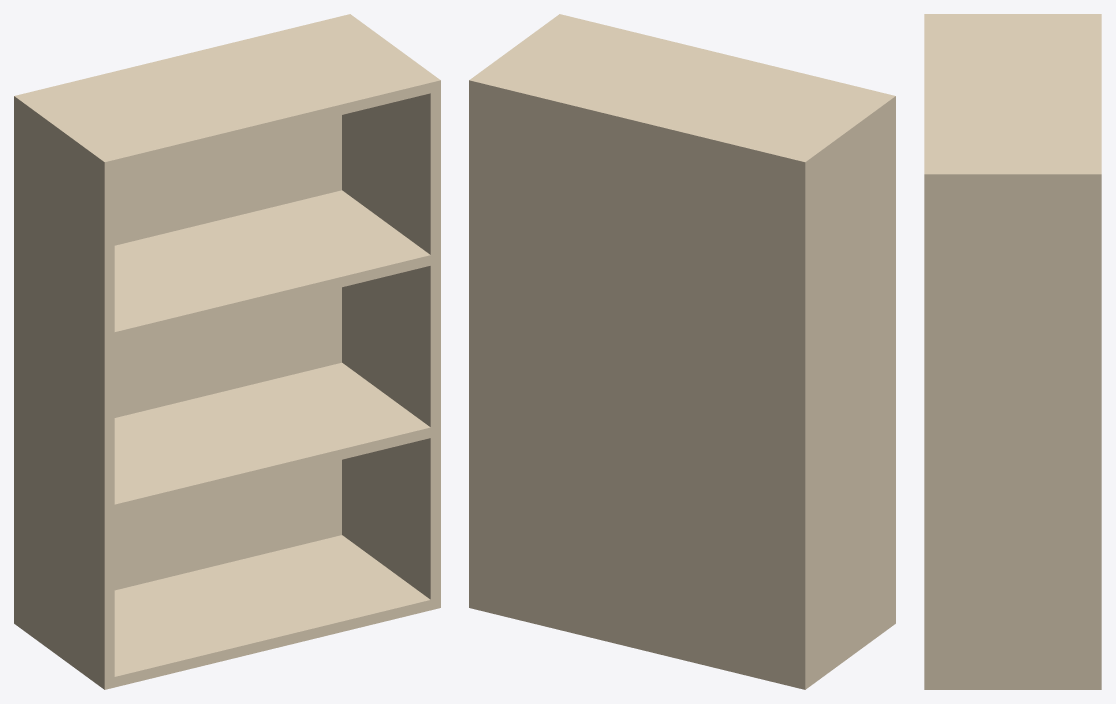
Rendered from natural.glb.
3 renders of one model, left to right at view 1: azimuth 30°, elevation 25°; view 2: azimuth 150°, elevation 25°; view 3: azimuth 270°, elevation 25°, orthographic. The views are drawn at different scales.
Parts seen in each view (by area): view 1: back.1, side.1, side.2, top_bottom.2, top_bottom.1, shelf.1, shelf.2; view 2: back.1, side.1, top_bottom.2, side.2; view 3: side.2, top_bottom.2, back.1, side.1.
Boxes of the visible parts, bbox=[...] form: back.1: bbox=[14, 14, 351, 624]; side.1: bbox=[16, 95, 114, 689]; side.2: bbox=[342, 15, 440, 610]; top_bottom.2: bbox=[26, 18, 430, 170]; top_bottom.1: bbox=[114, 535, 430, 687]; shelf.1: bbox=[114, 362, 430, 514]; shelf.2: bbox=[114, 190, 430, 342]; back.1: bbox=[469, 79, 807, 689]; side.1: bbox=[797, 93, 895, 687]; top_bottom.2: bbox=[481, 16, 885, 158]; side.2: bbox=[471, 14, 569, 81]; side.2: bbox=[924, 169, 1097, 689]; top_bottom.2: bbox=[924, 18, 1097, 169]; back.1: bbox=[1097, 14, 1101, 689]; side.1: bbox=[924, 14, 1097, 18].
Bounding box in the file's own units: 0.6 × 0.9 × 0.28.
